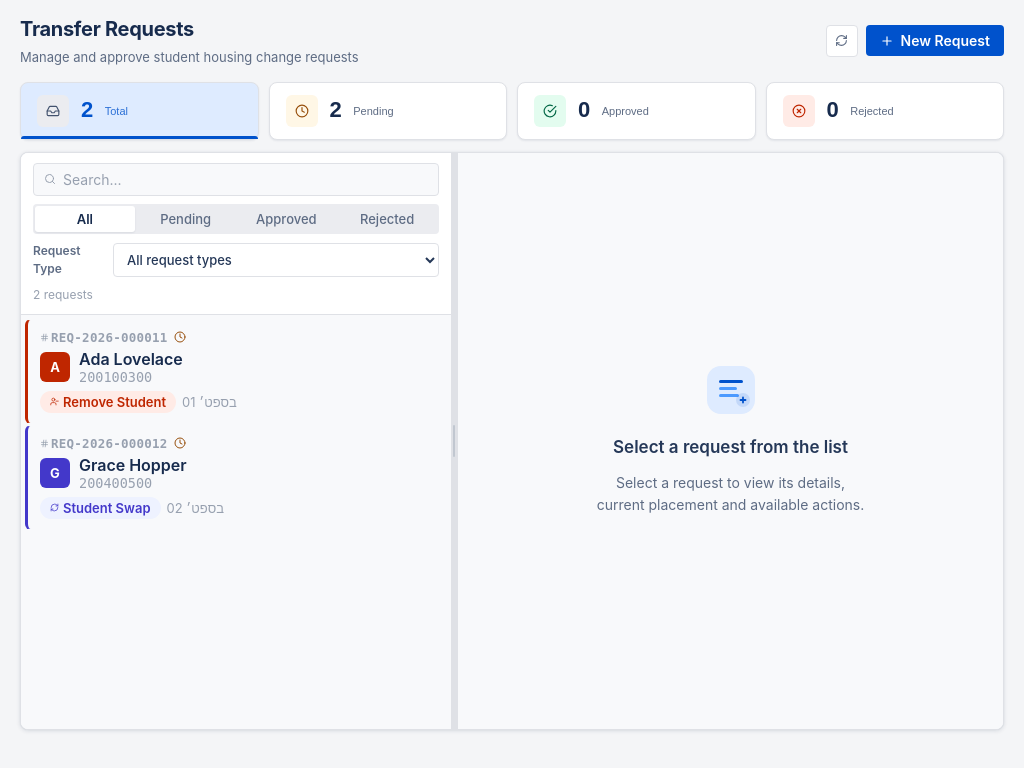
Test: TransfersPage request review › rejects a pending request with the typed reason and shows that reason afterwards
Expected: the text "Ada Lovelace" is shown, left=79, top=348, right=183, bottom=368
Click the button "Ada Lovelace": x=109, y=337 left=25, top=318, right=447, bottom=424
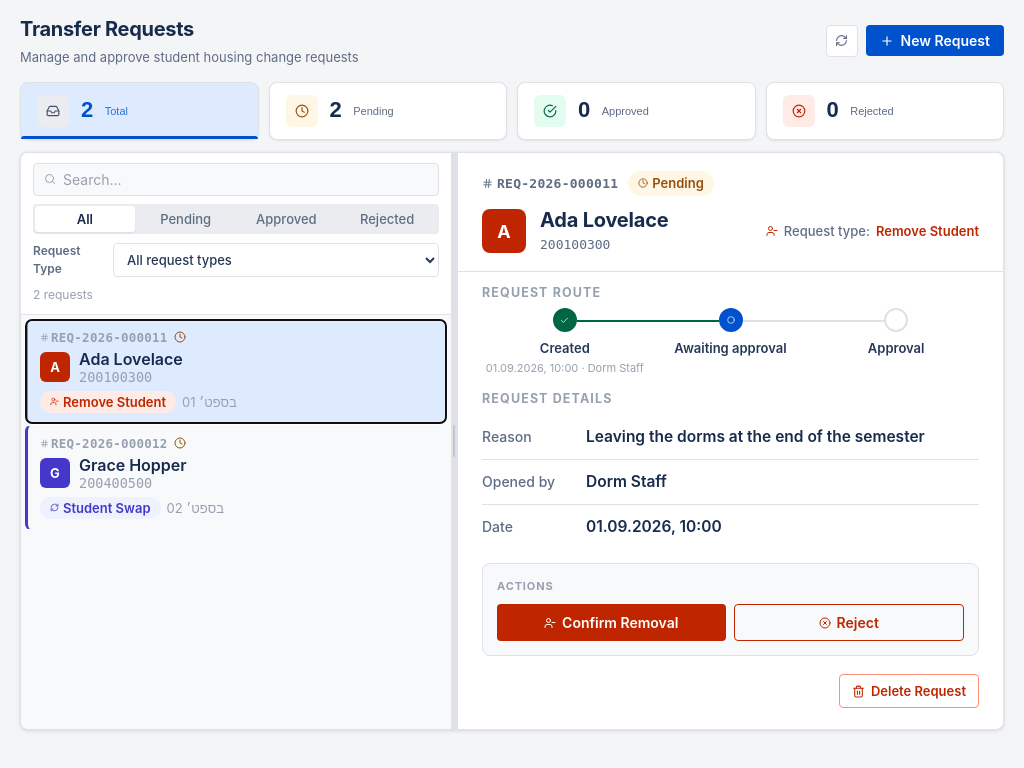
Expected: the heading "Ada Lovelace" is shown, left=540, top=208, right=668, bottom=232
Click the button "Reject": x=849, y=623 left=734, top=604, right=964, bottom=641
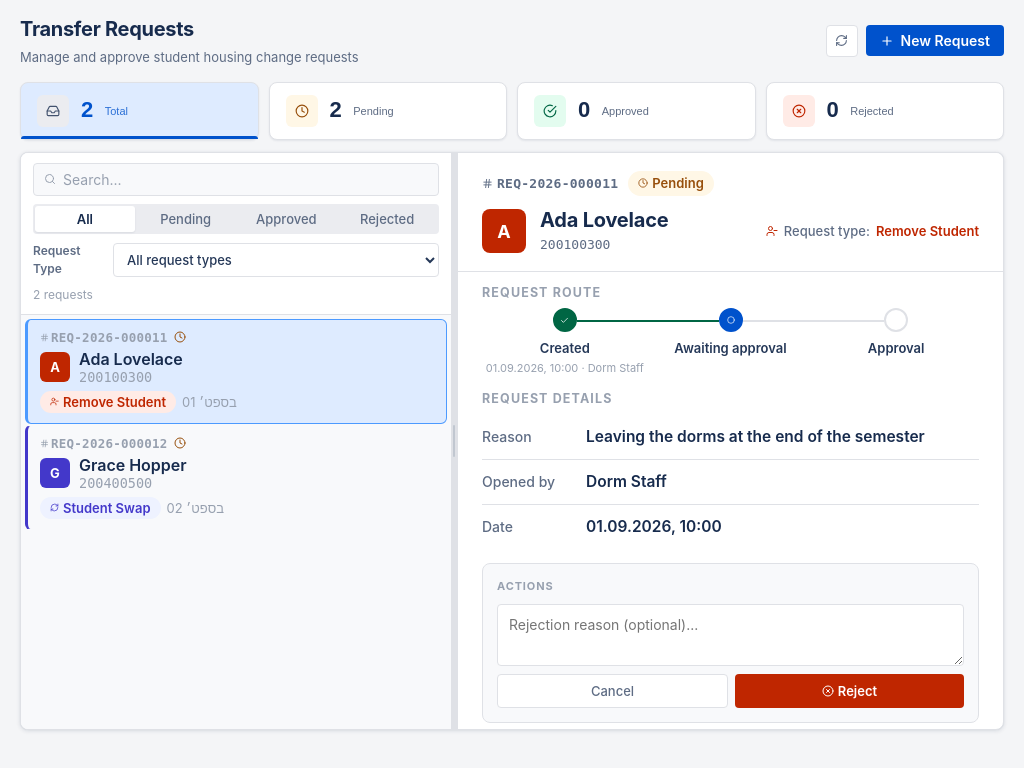
Click the text box with placeholder "Rejection reason (optional)...": x=730, y=635 left=497, top=604, right=964, bottom=666
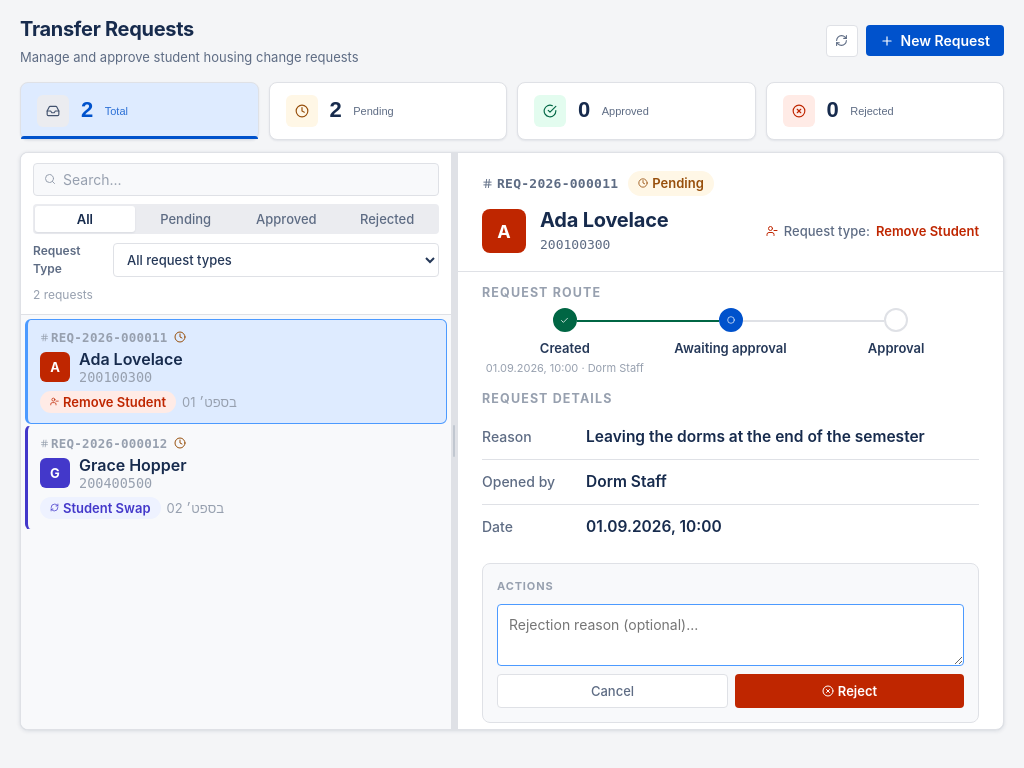
Type keys "Student is staying another semester"
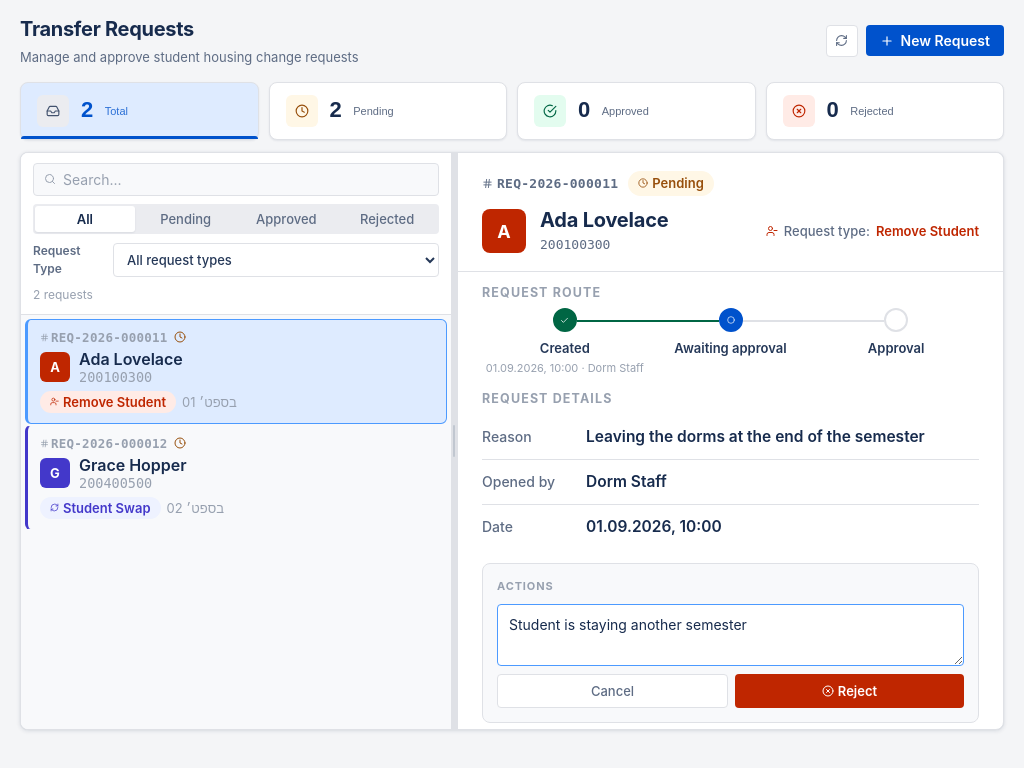
Click the button "Reject": x=850, y=691 left=735, top=674, right=964, bottom=708
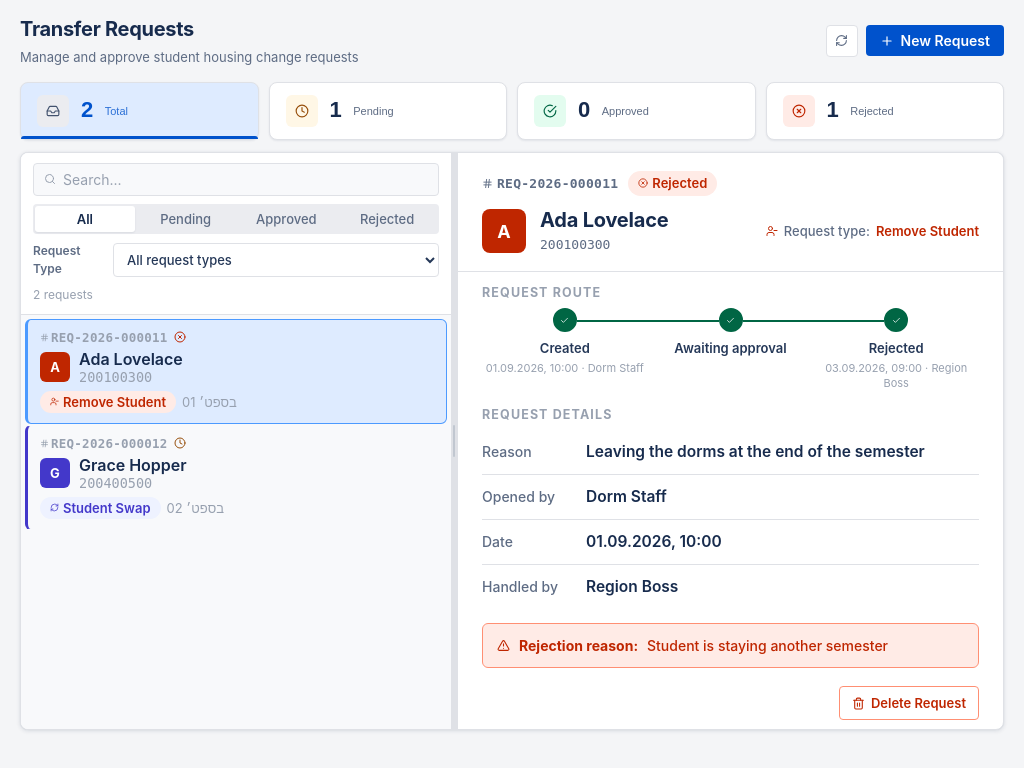
Expected: the button "Confirm Removal" is not shown
Expected: the text "Rejection reason:" is shown, left=519, top=635, right=638, bottom=656
Expected: the text "Student is staying another semester" is shown, left=647, top=637, right=888, bottom=654
Click the button "Rejected": x=387, y=218 left=337, top=206, right=437, bottom=232
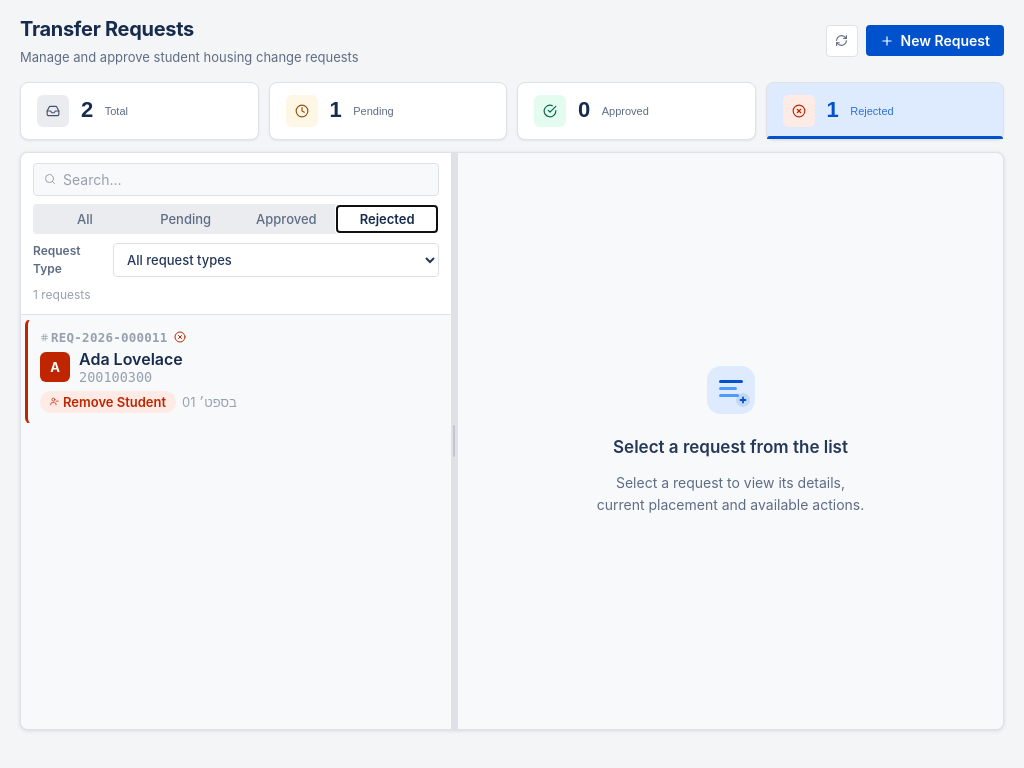
Expected: the text "1 requests" is shown, left=33, top=286, right=90, bottom=302
